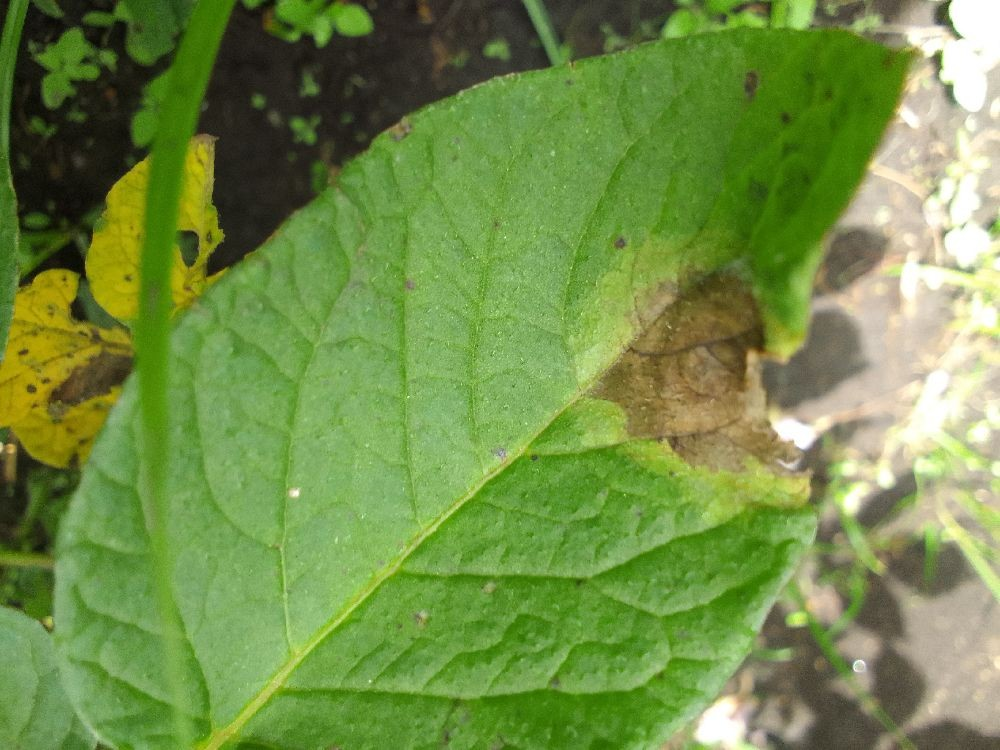late_blight: (576, 208, 999, 749), (118, 0, 765, 341), (0, 0, 215, 648), (799, 0, 937, 80)
